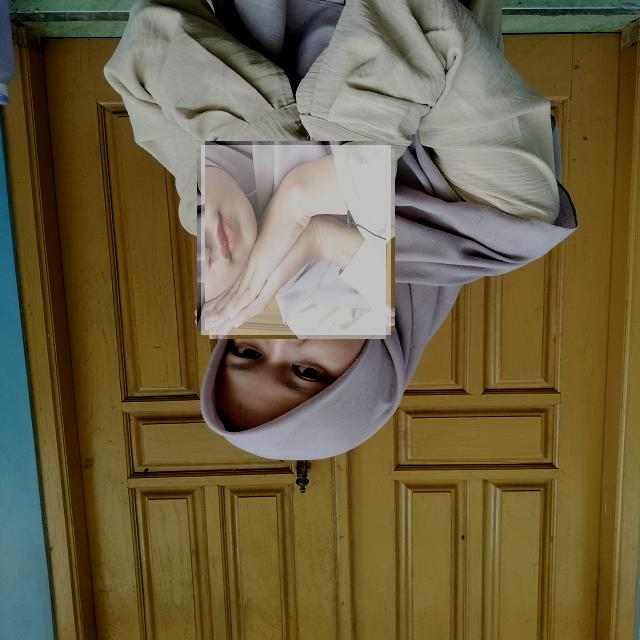tidur: (201, 145, 391, 335)
